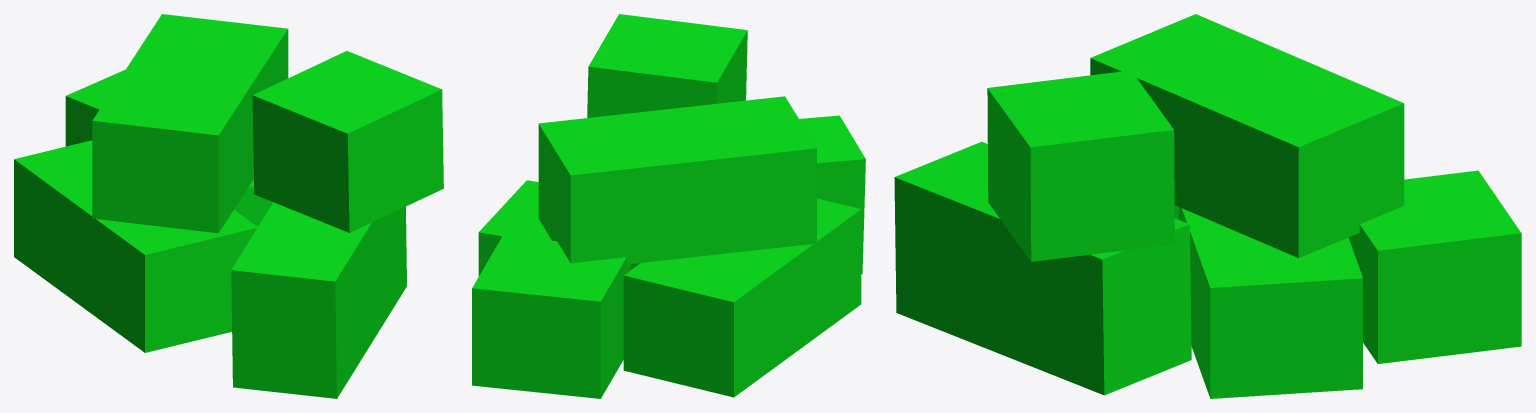
The model's file is Brick_Pile_01.fbx.
The picture shows the model from 3 angles, left to right: view 1: azimuth 30°, elevation 25°; view 2: azimuth 150°, elevation 25°; view 3: azimuth 270°, elevation 25°; orthographic projection. The views are drawn at different scales.
Parts seen in each view (by area): view 1: Brick_Pile_01; view 2: Brick_Pile_01; view 3: Brick_Pile_01.
Boxes of the visible parts, bbox=[...] form: Brick_Pile_01: bbox=[14, 14, 443, 398]; Brick_Pile_01: bbox=[472, 14, 865, 398]; Brick_Pile_01: bbox=[894, 14, 1521, 398].
Bounding box in the file's own units: 418 × 310 × 686.
